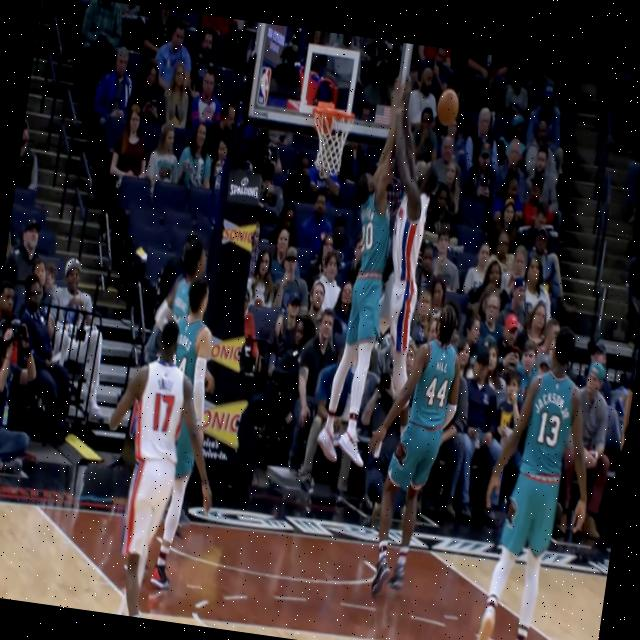foul: (327, 68, 450, 469)
no foul: (108, 245, 240, 612), (362, 301, 467, 604), (95, 318, 200, 608)
